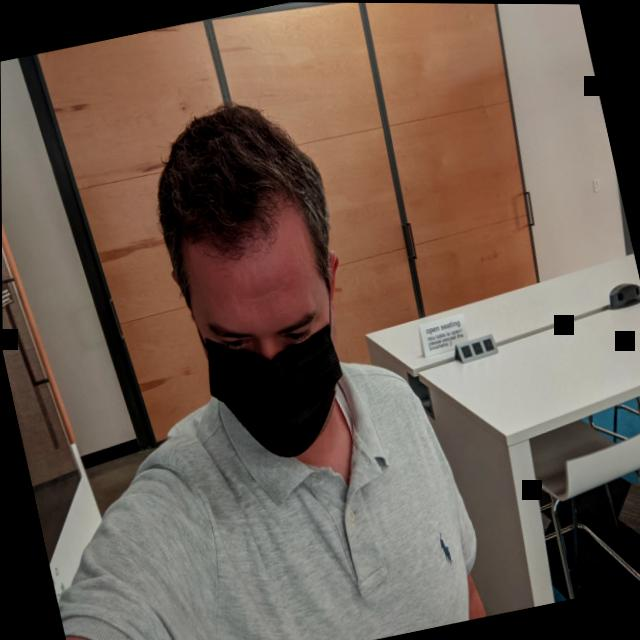Mask: (170, 206, 361, 473)
